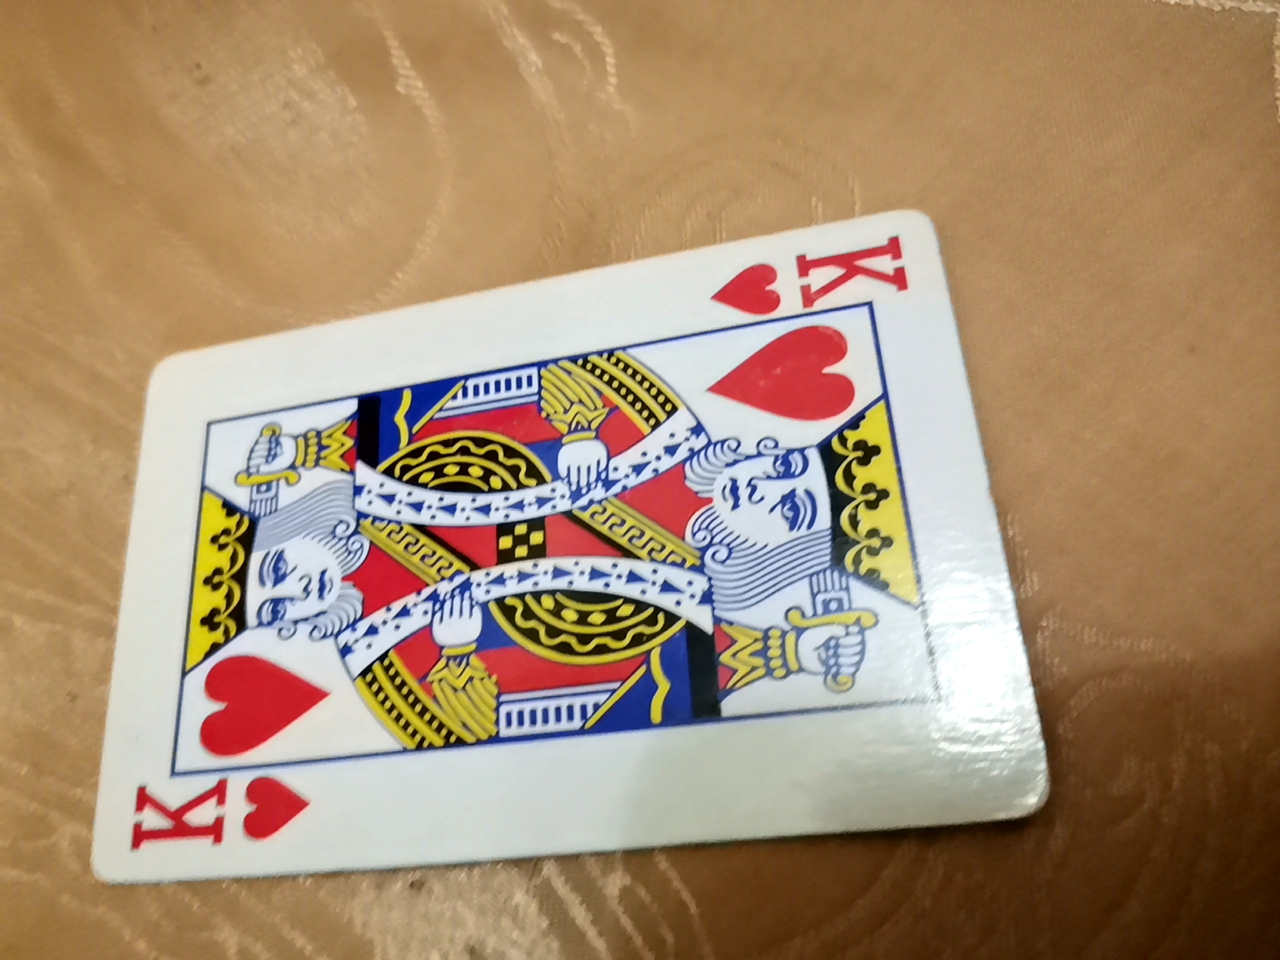hx k: (92, 221, 1009, 908)
